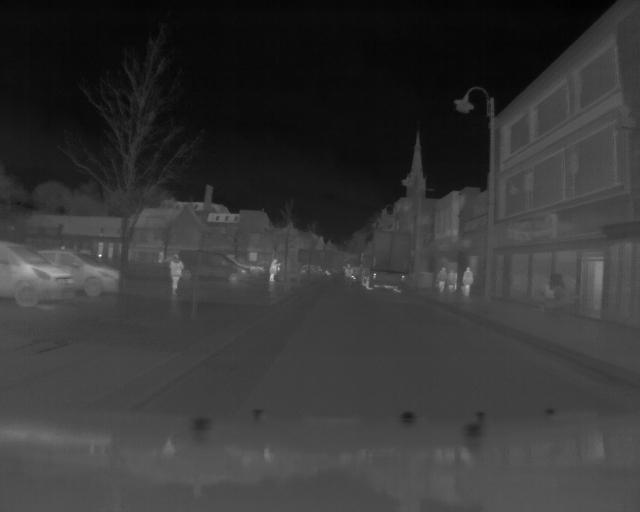car: (1, 238, 79, 313), (361, 234, 412, 295), (184, 249, 259, 285)
person: (169, 253, 182, 297), (437, 265, 448, 295), (464, 266, 473, 297), (270, 255, 279, 284)
